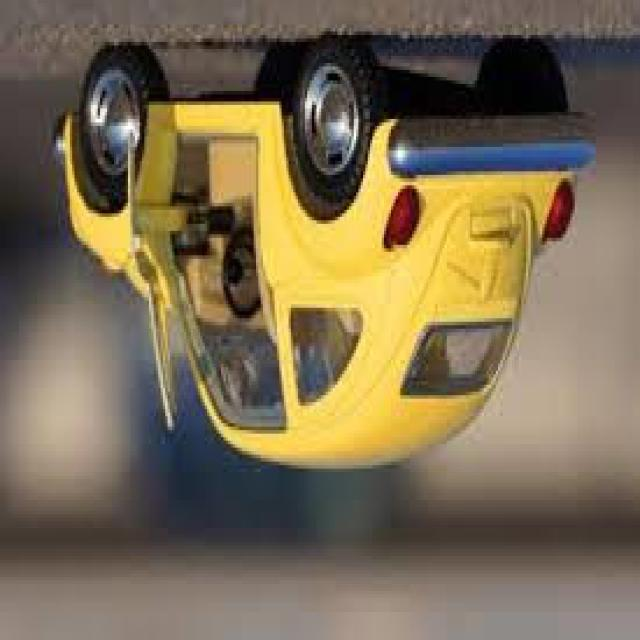Car: (51, 35, 596, 472)
